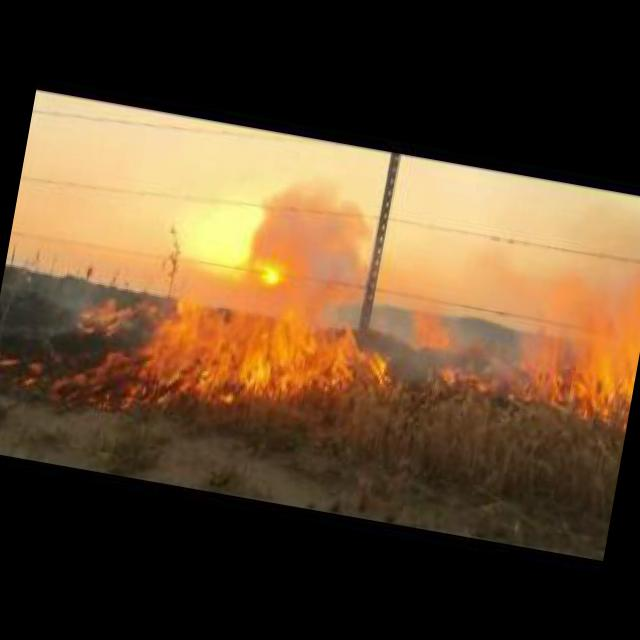fire: (68, 250, 373, 439), (504, 254, 640, 416), (437, 358, 495, 392), (410, 308, 452, 350)
